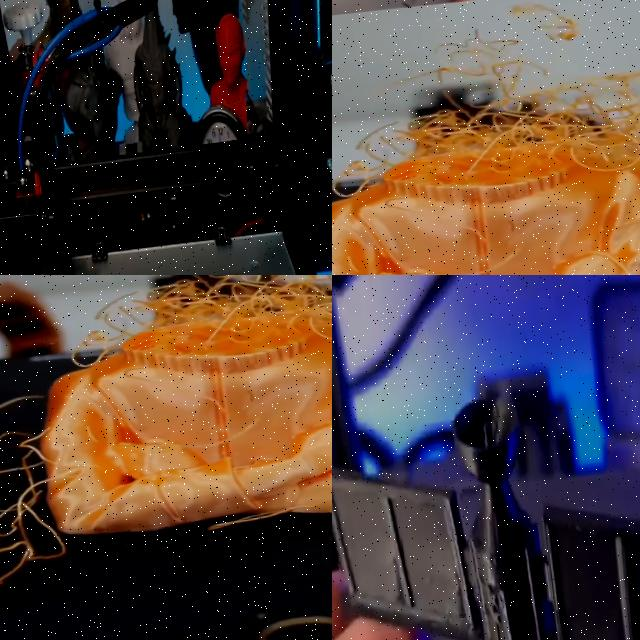spaghetti: (340, 4, 640, 186), (79, 275, 332, 356), (0, 395, 67, 589)
